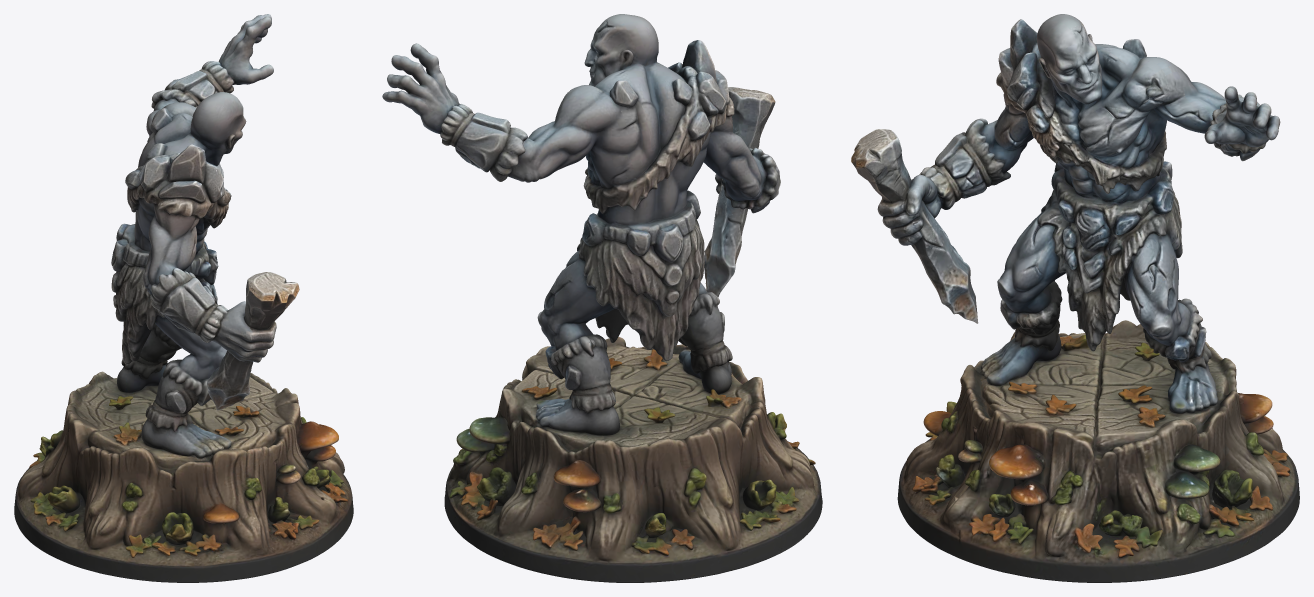
The model's file is inspiration-353.glb.
The picture shows the model from 3 angles, left to right: view 1: azimuth 30°, elevation 25°; view 2: azimuth 150°, elevation 25°; view 3: azimuth 270°, elevation 25°; orthographic projection. The views are drawn at different scales.
Parts seen in each view (by area): view 1: tripo_node_f90a0fcd-e02b-4833-8d91-30d8746299db; view 2: tripo_node_f90a0fcd-e02b-4833-8d91-30d8746299db; view 3: tripo_node_f90a0fcd-e02b-4833-8d91-30d8746299db.
Part boxes in pixels (x1,y1,x2,y2): tripo_node_f90a0fcd-e02b-4833-8d91-30d8746299db: [14, 14, 353, 582]; tripo_node_f90a0fcd-e02b-4833-8d91-30d8746299db: [382, 14, 822, 582]; tripo_node_f90a0fcd-e02b-4833-8d91-30d8746299db: [851, 14, 1299, 582].
Bounding box in the file's own units: 0.7439 × 1 × 0.8245.
Materials: 1 (1 with a texture image).
